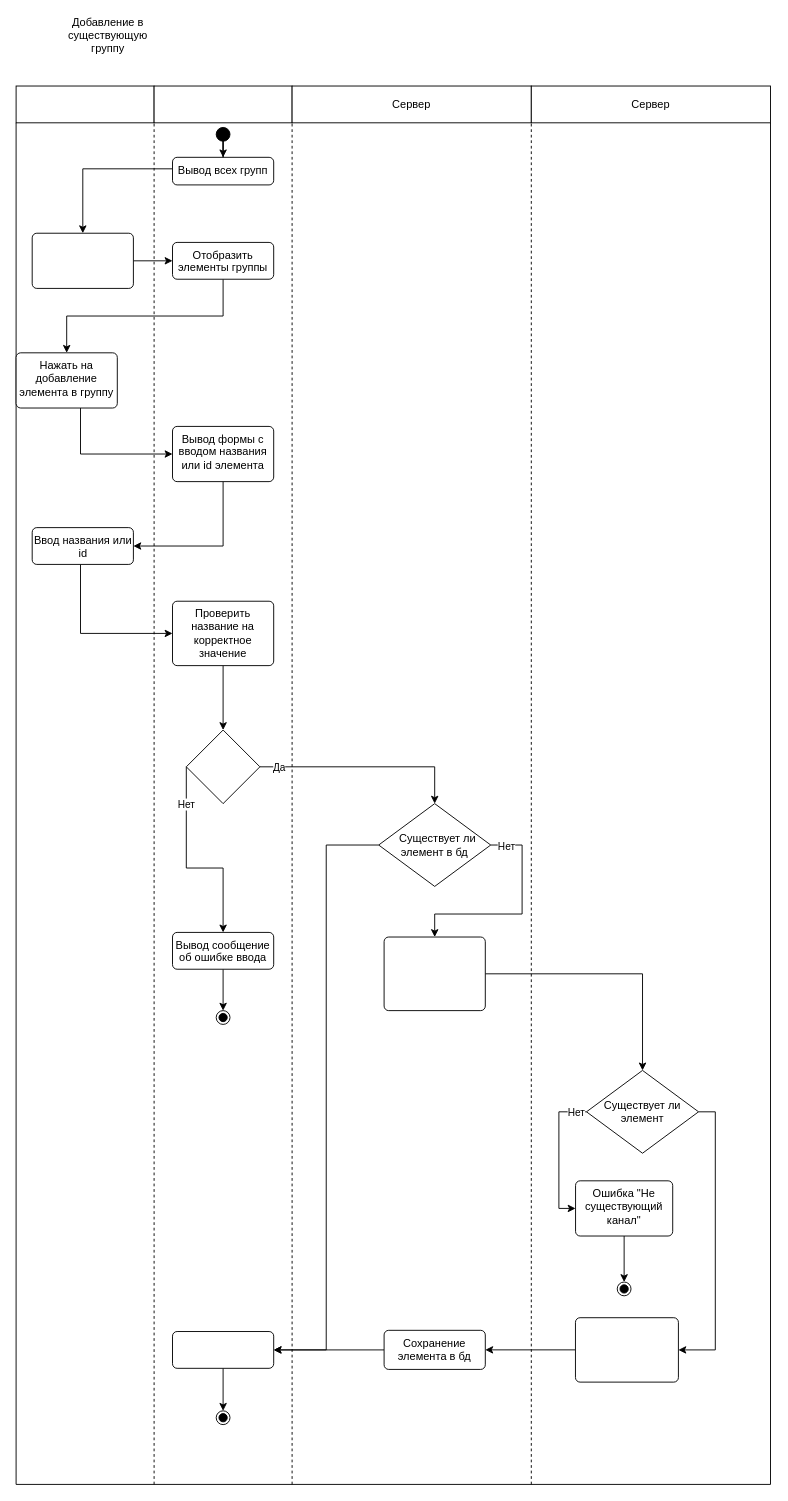
Some shapes in this 788 by 1501 pixel diagram are drawn without their labels. The box of each missing label's shape, as (x1, y1, x2, y2) in pixels:
Верно: (185, 729, 260, 804)
Выбрать существующую группу: (31, 232, 133, 288)
Выполнение запроса и формирование ответа: (575, 1317, 678, 1382)
Отображение элемента в группе: (172, 1331, 274, 1368)
Пользователь: (15, 85, 154, 123)
Сайт: (153, 85, 292, 123)
Формирование youtube api запроса на выкачку данных элемента: (383, 936, 485, 1011)
